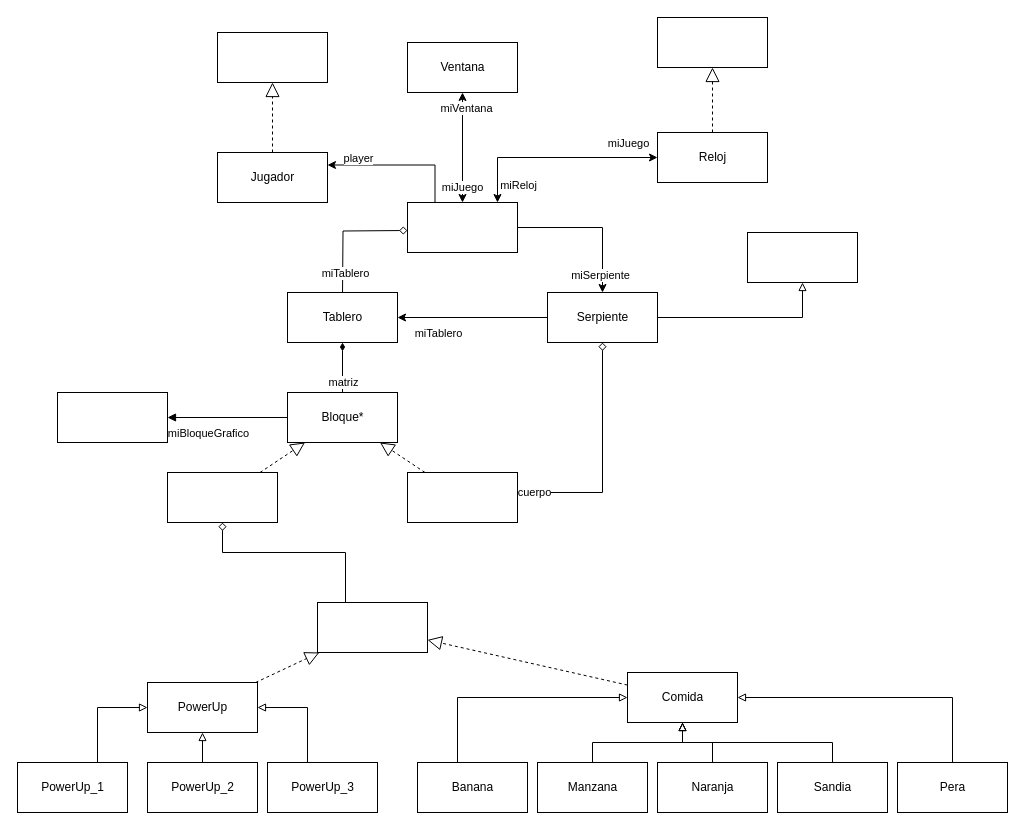
This 1025x830 diagram has some shape labels left out. The shapes that lost their labels are listed below. From the top down, each one's centre as x and y in pixels, then its label:
At pixel 272 57: "Serializable".
At pixel 712 42: "Runnable".
At pixel 462 227: "Juego".
At pixel 802 257: "Visitor".
At pixel 112 417: "BloqueGrafico".
At pixel 222 497: "BloqueTransitable".
At pixel 462 497: "BloqueIntransitable".
At pixel 372 627: "Entidad".
